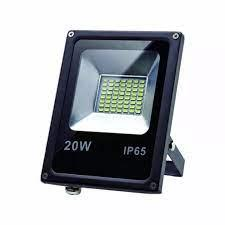Lamp: (35, 19, 187, 197)
